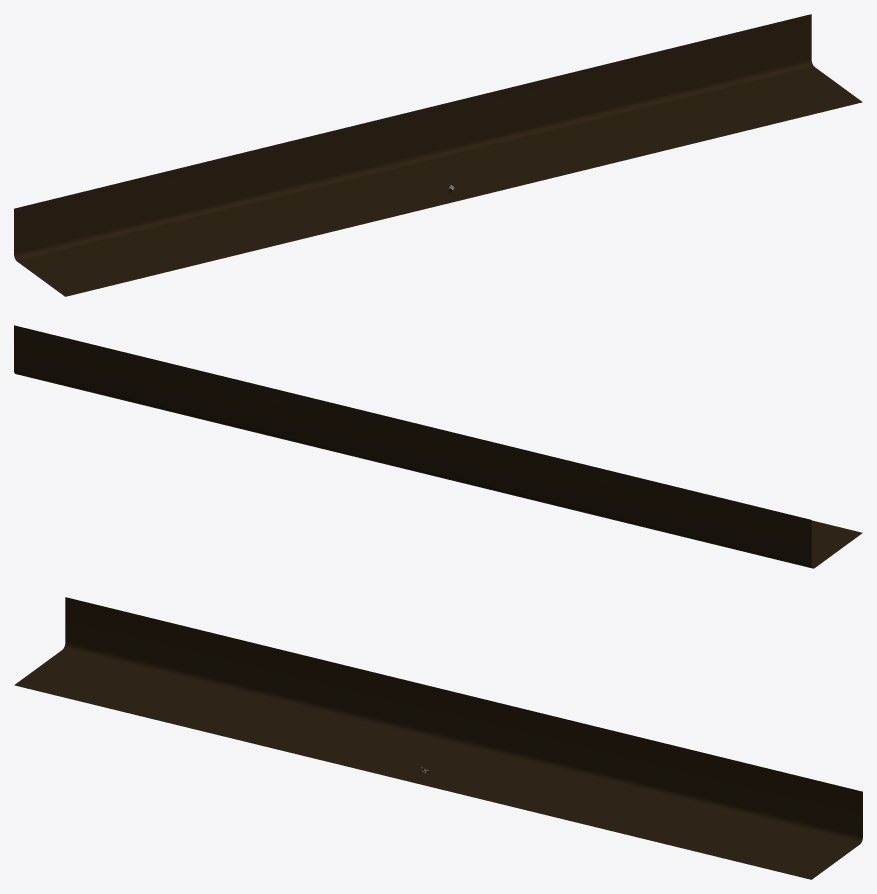
The model's file is animation-08.glb.
3 renders of one model, top to bottom at view 1: azimuth 30°, elevation 25°; view 2: azimuth 150°, elevation 25°; view 3: azimuth 330°, elevation 25°, orthographic.
Visible parts, largest first — view 1: Ground; view 2: Ground; view 3: Ground.
Part boxes in pixels (<box>): Ground: <box>14,14,862,296</box>; Ground: <box>14,325,862,568</box>; Ground: <box>14,597,862,879</box>.
Bounding box in the file's own units: 959 × 58.53 × 107.
